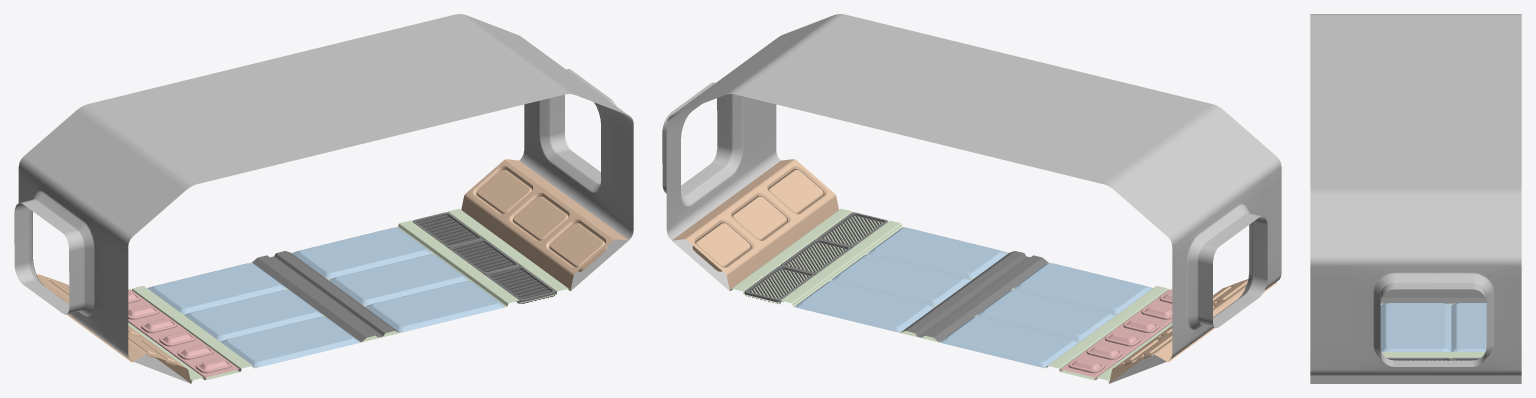
File: MOD_3.fbx
The picture shows the model from 3 angles, left to right: view 1: azimuth 30°, elevation 25°; view 2: azimuth 150°, elevation 25°; view 3: azimuth 270°, elevation 25°; orthographic projection. The views are drawn at different scales.
Parts seen in each view (by area): view 1: MOD_3; view 2: MOD_3; view 3: MOD_3.
Part boxes in pixels (box(x1,y1,x2,y2)): MOD_3: box(14, 14, 633, 383); MOD_3: box(662, 14, 1281, 383); MOD_3: box(1310, 14, 1521, 383).
Size of the model in its own units: 8.72 by 3.03 by 3.
